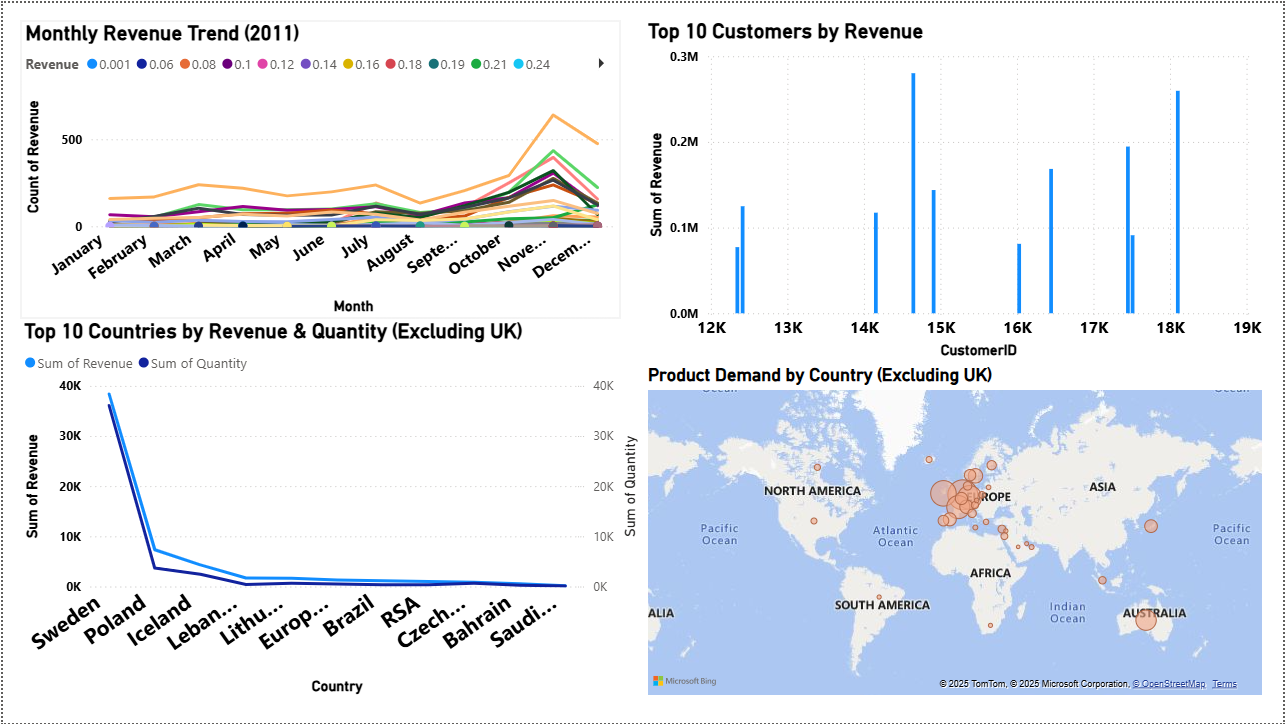

The dashboard page shown, as its layout file describes it:
{"tool":"powerbi","page":{"name":"Page 1","canvas":[1280,720],"ordinal":0},"visuals":[{"type":"lineChart","title":"Monthly Revenue Trend (2011)","fields":{"Category":["Online Retail.InvoiceDate.Variation.Date Hierarchy.Month"],"Series":["Online Retail.Revenue"],"Y":["CountNonNull(Online Retail.Revenue)"]},"box":[17.1,17.1,600,298.6],"z":0},{"type":"tableEx","fields":{"Values":["Online Retail.InvoiceDate.Variation.Date Hierarchy.Year"]},"box":[1136.1,225.5,143.9,135.3],"z":1000},{"type":"lineChart","title":"Top 10 Countries by Revenue & Quantity (Excluding UK)","fields":{"Category":["Online Retail.Country"],"Y2":["Sum(Online Retail.Quantity)"],"Y":["Sum(Online Retail.Revenue)"]},"box":[16.7,316.7,623.3,380],"z":2000},{"type":"clusteredColumnChart","title":"Top 10 Customers by Revenue","fields":{"Category":["Online Retail.CustomerID"],"Y":["Sum(Online Retail.Revenue)"]},"box":[640,16,624,344],"z":3000},{"type":"map","title":"Product Demand by Country (Excluding UK)","fields":{"Category":["Online Retail.Country"],"Size":["Sum(Online Retail.Quantity)"]},"box":[640,361,624,336],"z":4000}]}

Visuals, with their boxes in screenshot pixels (x1, y1, x2, y2), scaled from the page's 1280x720 canvas onto the 1287x724 screenshot:
"Monthly Revenue Trend (2011)" lineChart: region(17, 17, 620, 317)
tableEx - Online Retail.InvoiceDate.Variation.Date Hierarchy.Year: region(1142, 227, 1286, 363)
"Top 10 Countries by Revenue & Quantity (Excluding UK)" lineChart: region(17, 318, 644, 701)
"Top 10 Customers by Revenue" clusteredColumnChart: region(644, 16, 1271, 362)
"Product Demand by Country (Excluding UK)" map: region(644, 363, 1271, 701)
